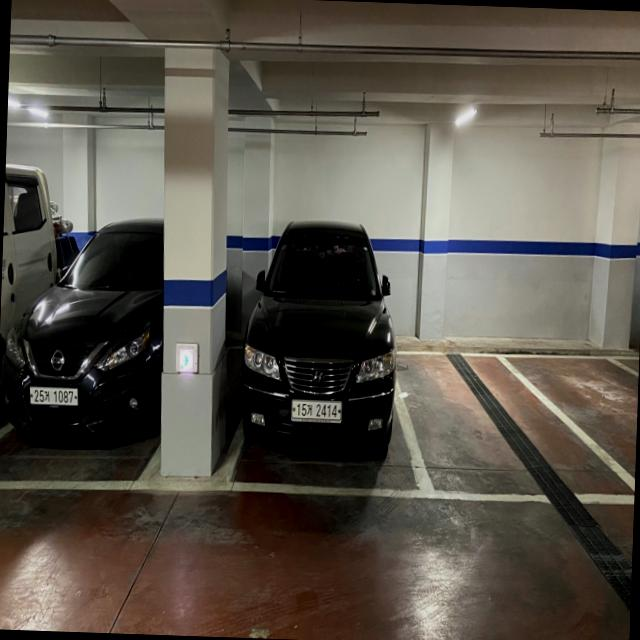car: (241, 212, 404, 463), (13, 214, 166, 442)
free: (383, 349, 634, 506)
